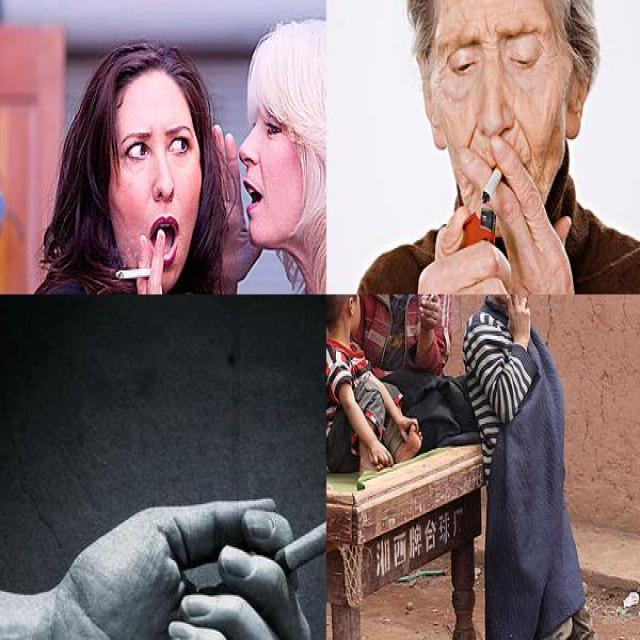smoking: (246, 499, 326, 594), (474, 158, 504, 220), (114, 267, 157, 282), (428, 294, 440, 302), (508, 294, 514, 298)
